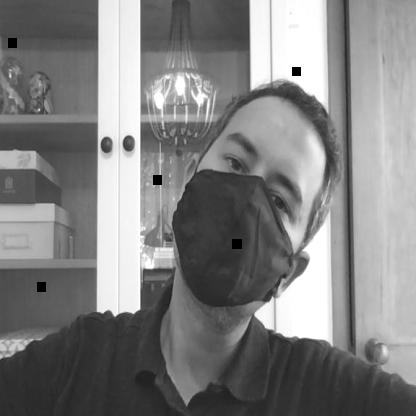mask: (172, 79, 344, 312)
